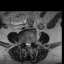CCS_stenosis: (27, 41, 29, 49)
LFS_severe_stenosis: (31, 40, 33, 46)
LLS_normal: (29, 41, 31, 48)
RFS_severe_stenosis: (23, 40, 25, 46)
RLS_normal: (25, 41, 27, 47)
